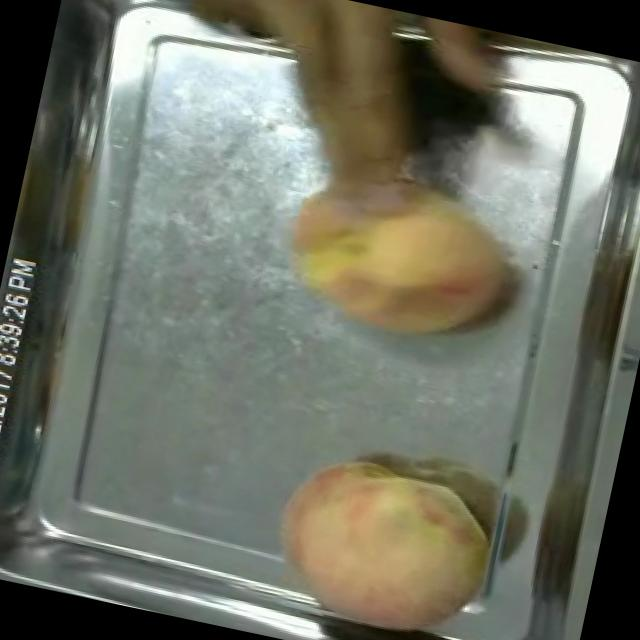Fruit: (265, 142, 535, 366), (243, 432, 509, 640), (121, 0, 398, 80)
